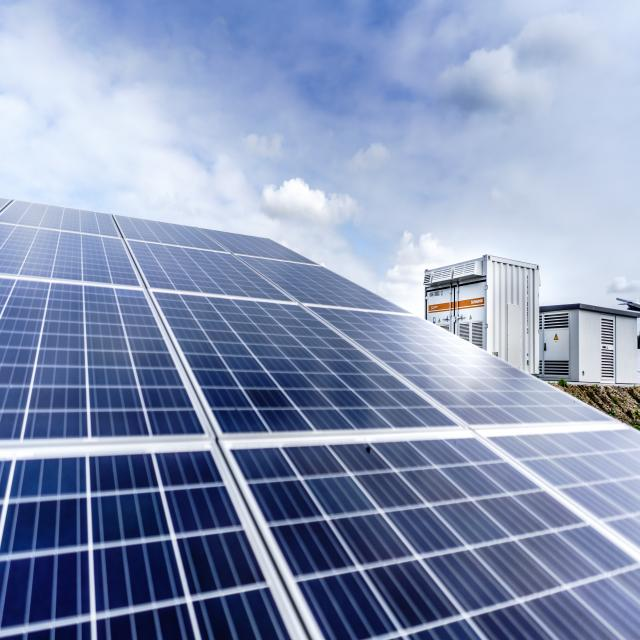clean-solar-panel: (0, 199, 640, 639)
